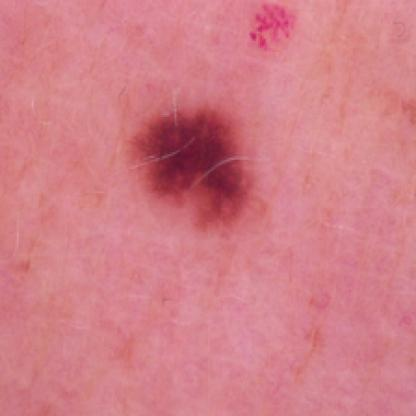benign: (115, 0, 299, 238)
